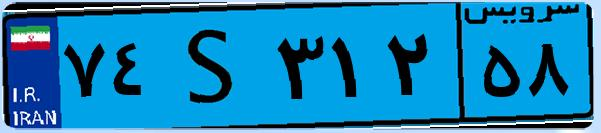1: (330, 28, 385, 110)
2: (385, 28, 445, 110)
3: (270, 28, 330, 110)
4: (110, 28, 158, 98)
5: (475, 38, 525, 113)
7: (57, 26, 110, 100)
8: (525, 38, 570, 115)
S: (158, 12, 270, 120)
